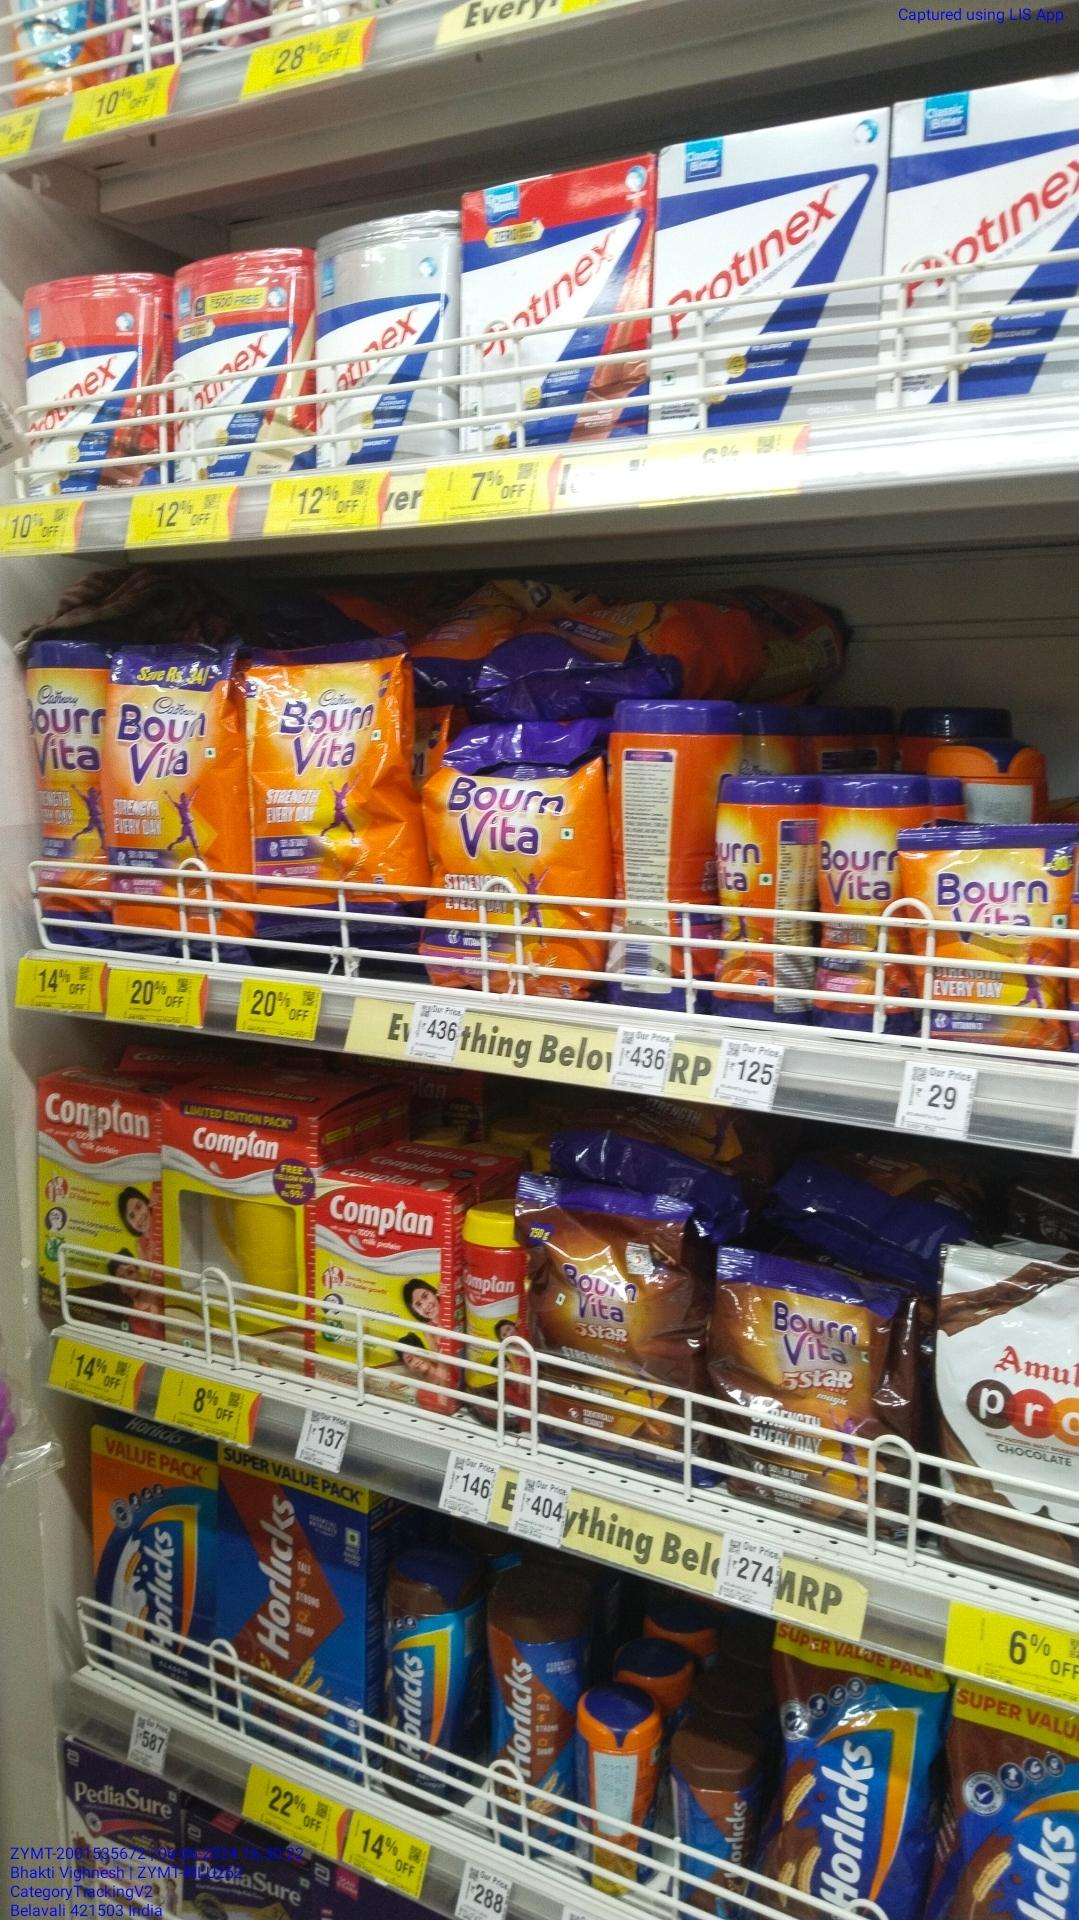BOURN_VITA_1_KG_JAR: (26, 633, 102, 951)
BOURN_VITA_200_G_JAR: (822, 777, 905, 1035), (712, 775, 777, 1011)
BOURN_VITA_500_G_POUCH: (245, 650, 406, 981), (425, 766, 595, 1001)
BOURN_VITA_75_G_POUCH: (908, 831, 1070, 1052)
BOURN_VITA_FIVE_STAR_MAGIC_500_G_POUCH: (712, 1258, 892, 1518)
BOURN_VITA_FIVE_STAR_MAGIC_750_G_POUCH: (526, 1191, 700, 1482)
COMPLAN_CHOCOLATE_200_GMS_JAR: (459, 1209, 525, 1440)
COMPLAN_CHOCOLATE_500_GMS_PACK: (32, 1085, 156, 1338)
COMPLAN_KESAR_BADAM_200_GMS_PACK: (311, 1178, 451, 1412)
HORLICK_CHOCOLATE_1_KG_PACK: (218, 1444, 359, 1776)
HORLICK_CHOCOLATE_200_G_JAR: (686, 1759, 762, 1920)
HORLICK_CHOCOLATE_500_G_JAR: (484, 1597, 572, 1865)
HORLICK_CHOCOLATE_750_G_POUCH: (772, 1621, 938, 1920)
HORLICK_CLASSIC_MALT_500_G_PACK: (92, 1431, 210, 1701)
PROTINEX_CHOCOLATE_400_G_JAR: (20, 277, 158, 495)
PROTINEX_ORIGINAL_400_G_JAR: (321, 219, 454, 471)
